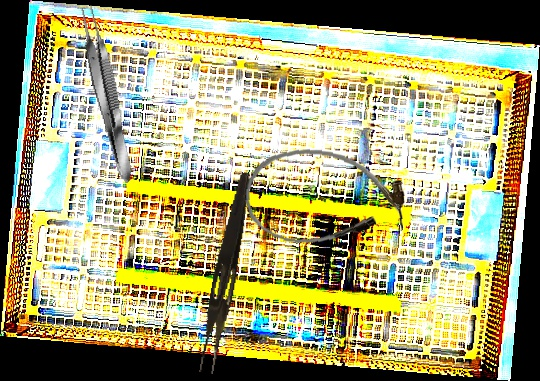Cannula: (242, 143, 409, 253)
Dressing Forceps: (198, 170, 253, 376)
Tissue Forceps: (73, 3, 140, 186)
